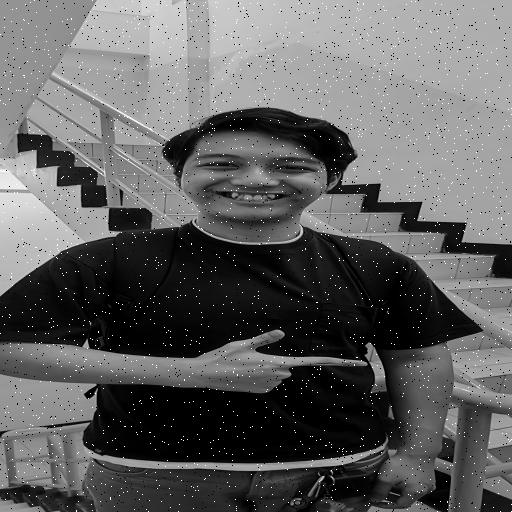next: (177, 318, 385, 412)
